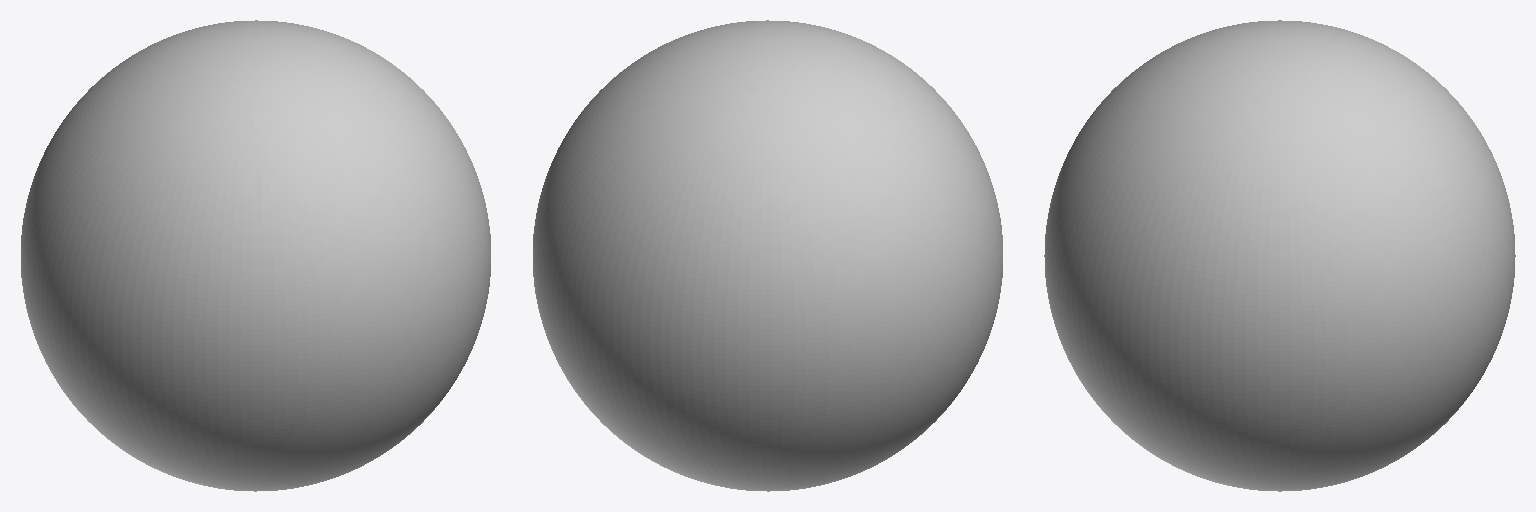
File: bola-peq.obj
The picture shows the model from 3 angles: view 1: azimuth 30°, elevation 25°; view 2: azimuth 150°, elevation 25°; view 3: azimuth 270°, elevation 25°; orthographic projection.
Visible parts, largest first — view 1: Sphere; view 2: Sphere; view 3: Sphere.
Part boxes in pixels (bbox=[...]): Sphere: bbox=[21, 20, 490, 491]; Sphere: bbox=[533, 20, 1002, 491]; Sphere: bbox=[1044, 20, 1515, 491].
Size of the model in its own units: 2.5 by 2.5 by 2.5.